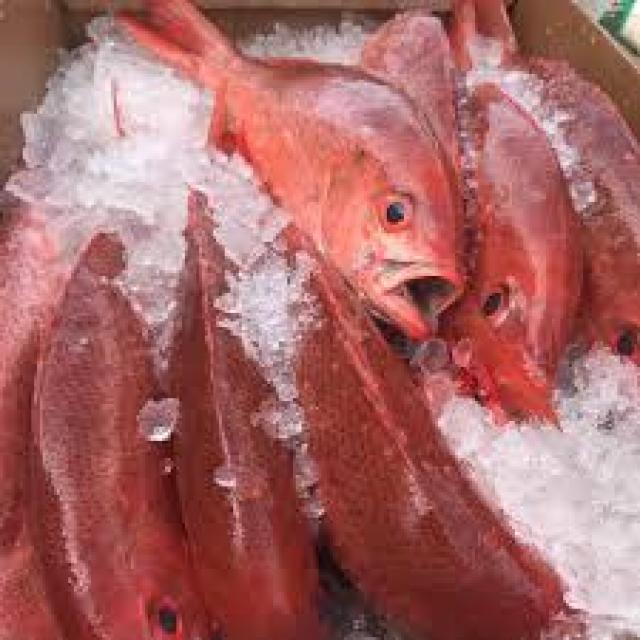northern-red-snapper: (258, 207, 582, 640), (112, 0, 470, 342), (348, 0, 582, 438), (33, 171, 205, 640), (162, 166, 327, 640), (441, 0, 640, 375), (0, 176, 137, 640)
